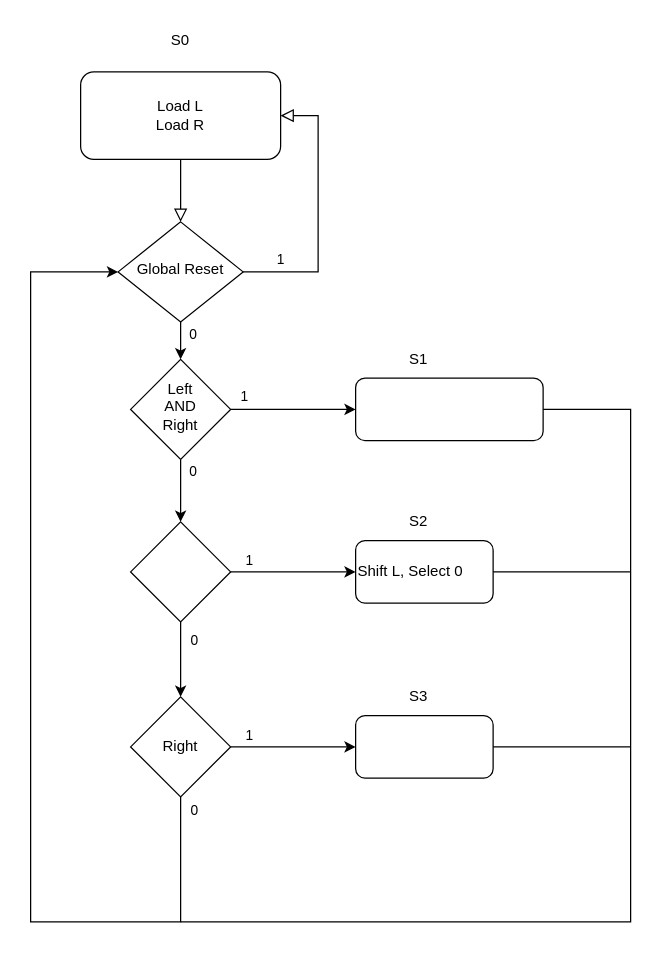
The diagram is 654 pixels wide and 954 high, and some of its shapes have lost their labels. The shapes that lost their labels are listed below. From the top down, each one's centre as x and y in pixels, then its label:
the point at 448,409: Shift L, Shift R, Select 1, Select 0
the point at 180,571: Left
the point at 423,746: Shift R, Select 1
